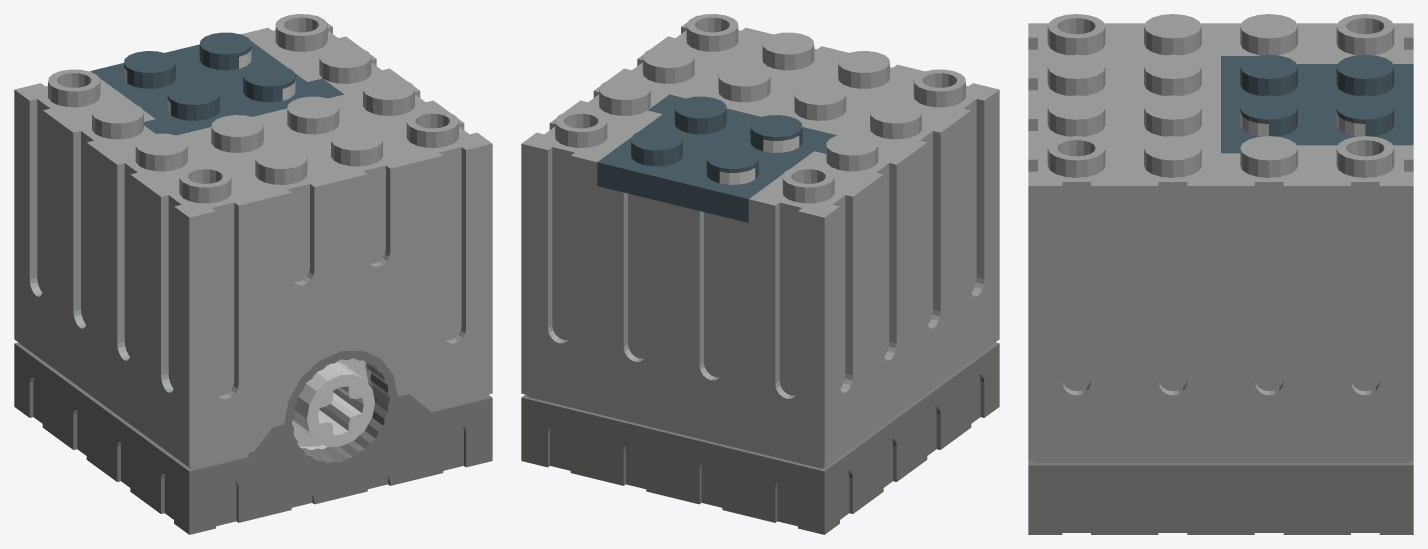
The picture shows the model from 3 angles, left to right: view 1: azimuth 30°, elevation 25°; view 2: azimuth 150°, elevation 25°; view 3: azimuth 270°, elevation 25°; orthographic projection. The views are drawn at different scales.
Parts seen in each view (by area): view 1: world; view 2: world; view 3: world.
Part boxes in pixels (x1,y1,x2,y2): world: (14,14,492,534); world: (521,14,999,534); world: (1028,14,1413,534).
Size of the model in its own units: 0.032 by 0.0336 by 0.032.
